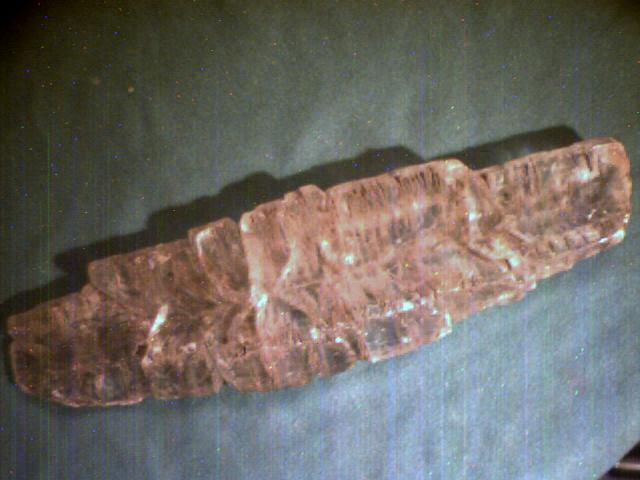gypsum: (7, 138, 633, 408)
